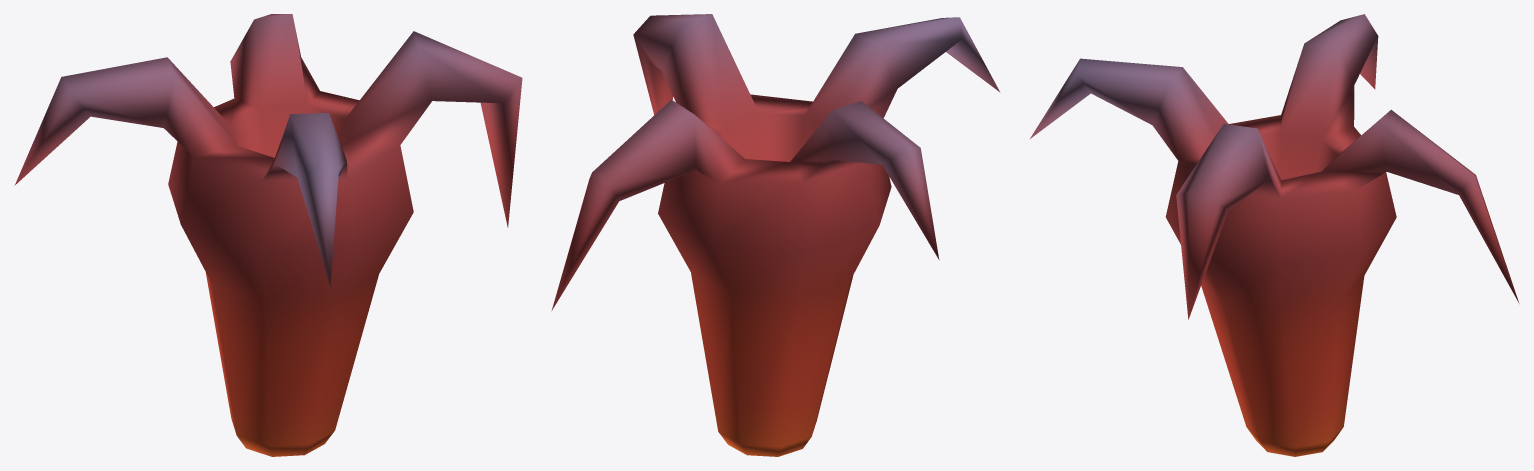
Rendered from mushrooms2.fbx.
3 views of the same model, side by side, from view 1: azimuth 30°, elevation 25°; view 2: azimuth 150°, elevation 25°; view 3: azimuth 270°, elevation 25° (orthographic). The views are drawn at different scales.
Visible parts, largest first — view 1: mushrooms2; view 2: mushrooms2; view 3: mushrooms2.
Part boxes in pixels (bbox=[...]): mushrooms2: bbox=[14, 14, 522, 456]; mushrooms2: bbox=[551, 14, 1000, 456]; mushrooms2: bbox=[1029, 14, 1519, 456].
Size of the model in its own units: 337 by 318 by 385.
1 material, 1 textured.
